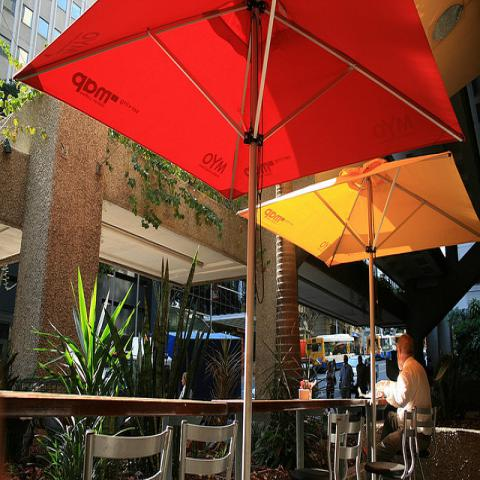bus: (316, 333, 356, 370), (366, 333, 393, 360), (305, 338, 327, 370)
